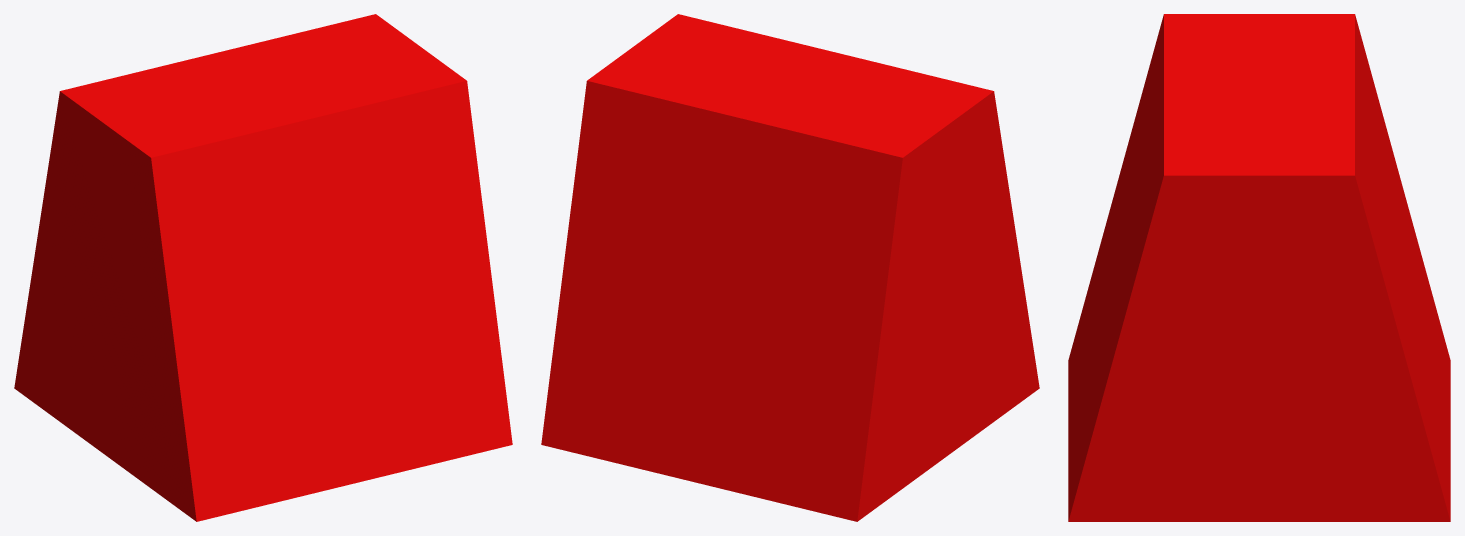
File: Barrier01Red.fbx
3 views of the same model, side by side, from view 1: azimuth 30°, elevation 25°; view 2: azimuth 150°, elevation 25°; view 3: azimuth 270°, elevation 25° (orthographic). The views are drawn at different scales.
Visible parts, largest first — view 1: BarrierRed1; view 2: BarrierRed1; view 3: BarrierRed1.
Part boxes in pixels (<box>): BarrierRed1: <box>14,14,512,521</box>; BarrierRed1: <box>541,14,1039,521</box>; BarrierRed1: <box>1068,14,1450,521</box>.
Size of the model in its own units: 2 by 2 by 2.
